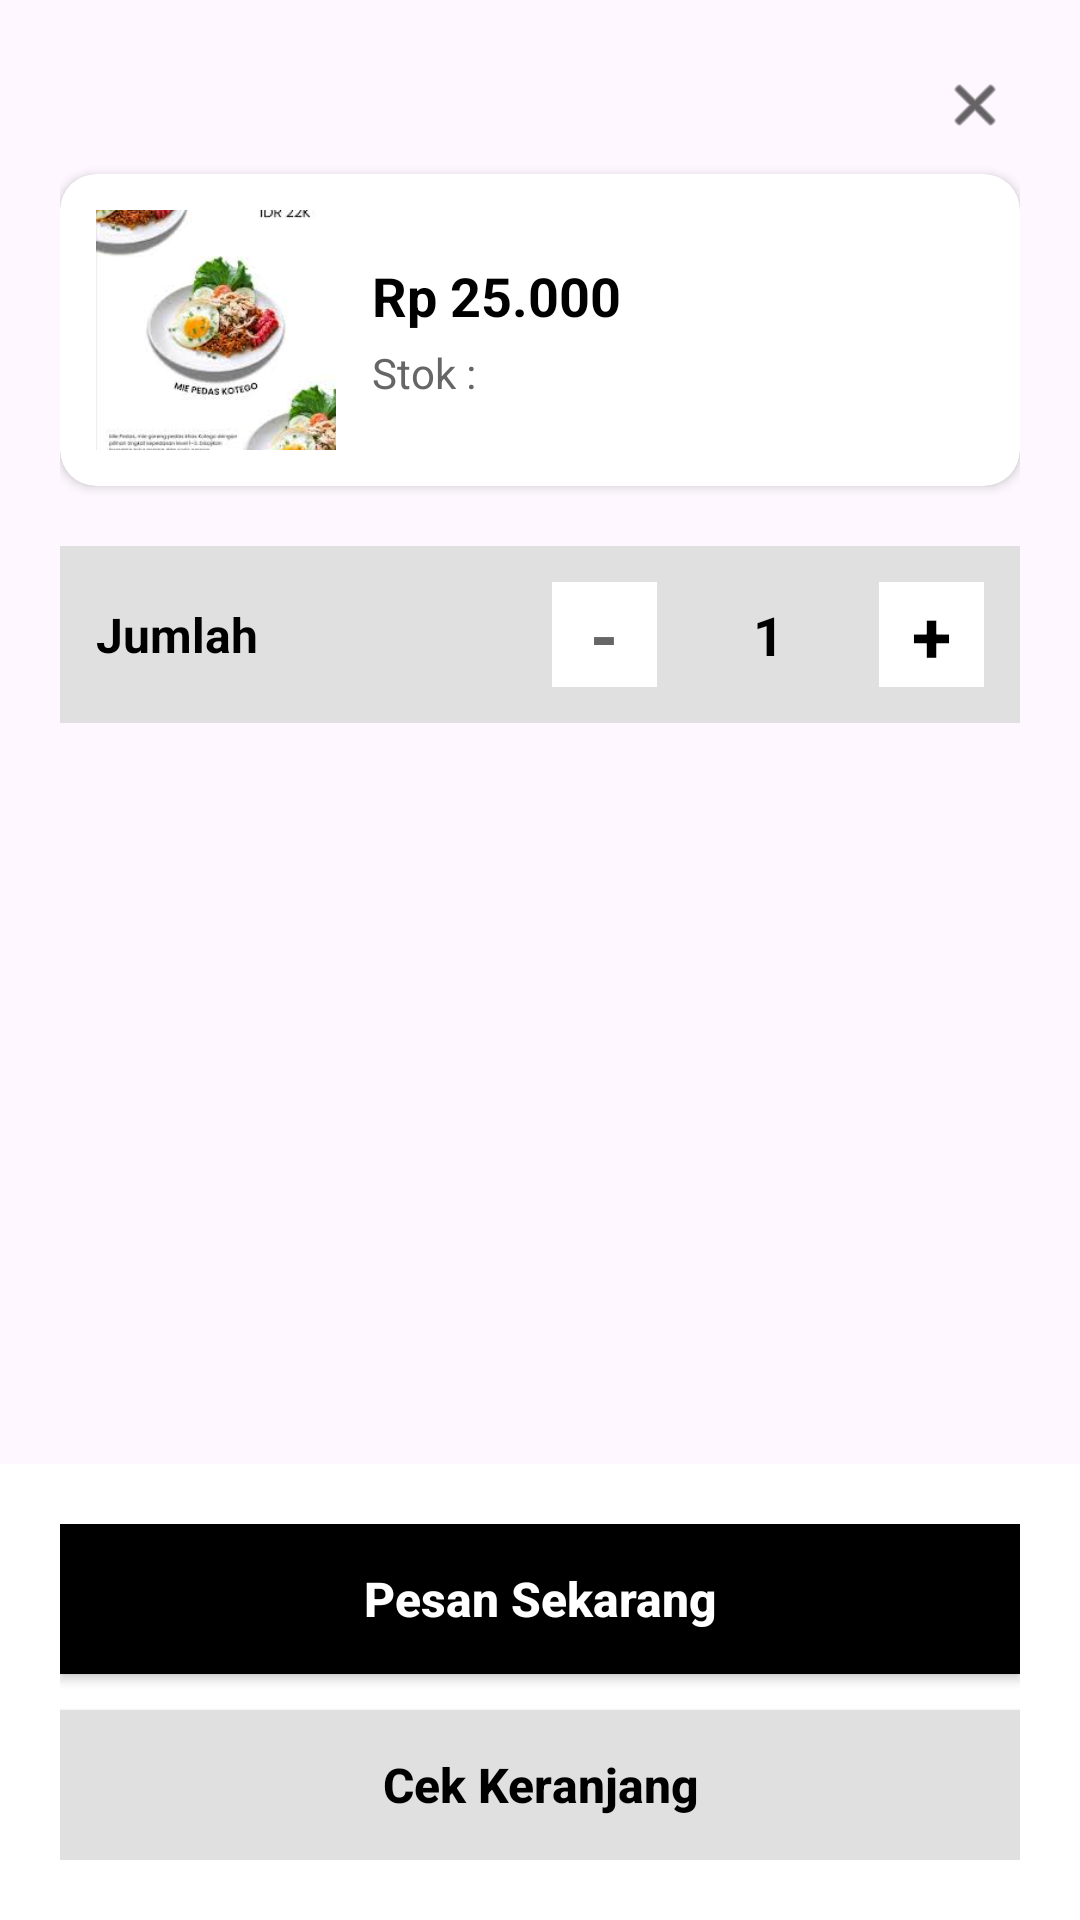

Named icons in this screenshot (1080px×1920px) and their bounding boxes, (x1, y1, x2, y2):
close clear cancel: (954, 84, 996, 126)
